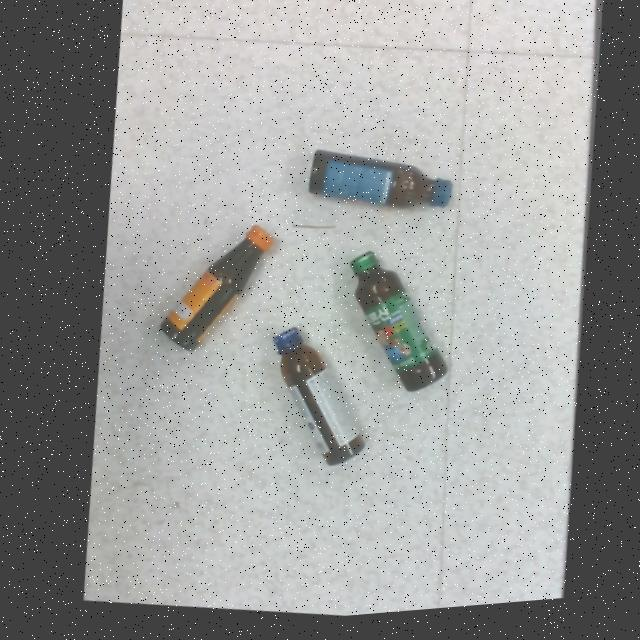energdrink: (154, 228, 268, 354), (346, 257, 441, 399), (268, 332, 357, 470), (305, 154, 449, 215)
